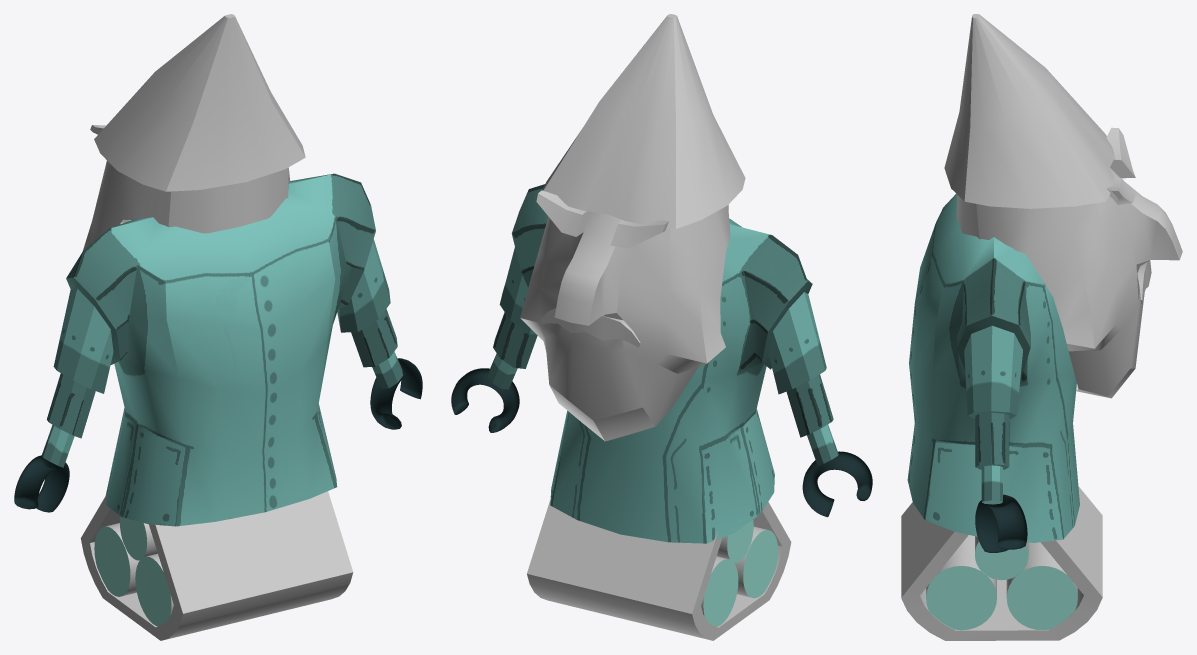
The model's file is Gnomo.fbx.
3 renders of one model, left to right at view 1: azimuth 30°, elevation 25°; view 2: azimuth 150°, elevation 25°; view 3: azimuth 270°, elevation 25°, orthographic. The views are drawn at different scales.
Visible parts, largest first — view 1: Cuelpo, Cabeza, Rueda, Rueda.001, Manos; view 2: Cabeza, Cuelpo, Rueda, Rueda.001, Manos; view 3: Cabeza, Cuelpo, Rueda, Rueda.001, Manos.
Boxes of the visible parts, x1,y1,x2,y2 form: Cuelpo: (41,173,402,526); Cabeza: (83,14,305,250); Rueda: (80,491,353,640); Rueda.001: (94,516,173,626); Manos: (14,358,422,512); Cabeza: (520,14,745,441); Cuelpo: (488,184,838,543); Rueda: (527,498,791,640); Rueda.001: (701,520,778,626); Manos: (451,368,872,517); Cabeza: (944,14,1182,398); Cuelpo: (907,193,1079,542); Rueda: (901,486,1102,640); Rueda.001: (926,535,1077,630); Manos: (975,494,1027,552).
Bounding box in the file's own units: 21.75 × 29.7 × 12.98.
